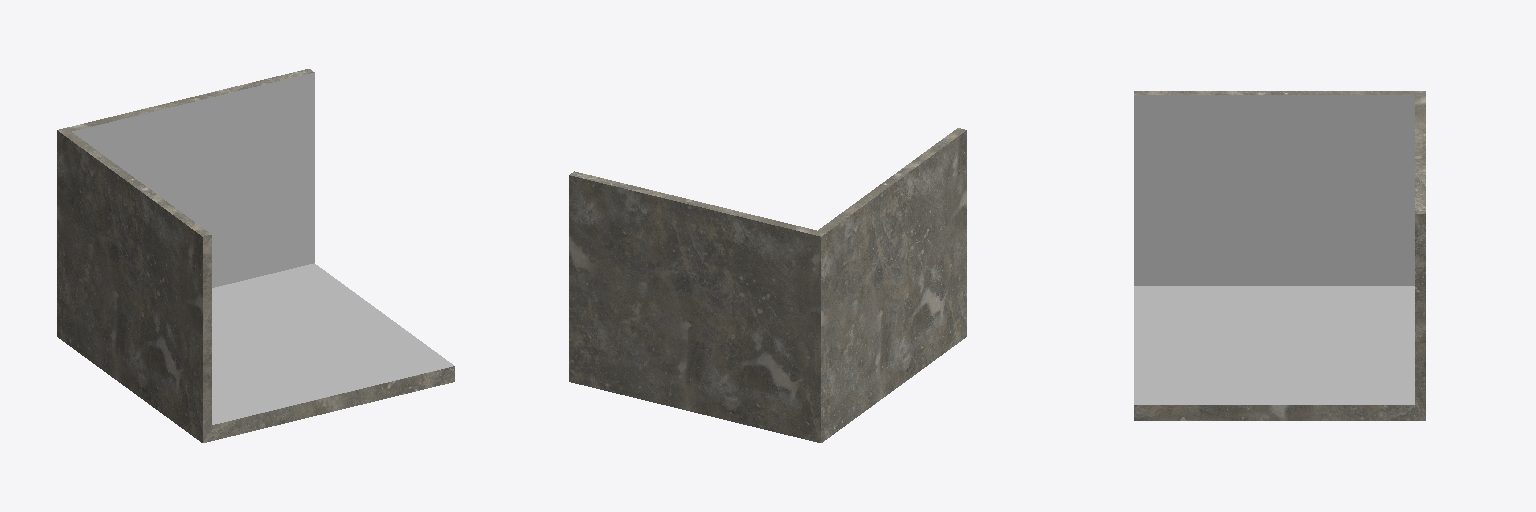
3 views of the same model, side by side, from view 1: azimuth 30°, elevation 25°; view 2: azimuth 150°, elevation 25°; view 3: azimuth 270°, elevation 25° (orthographic).
Visible parts, largest first — view 1: Plane_Plane.003; view 2: Plane_Plane.003; view 3: Plane_Plane.003.
Boxes of the visible parts, x1=… form: Plane_Plane.003: x1=57, y1=69, x2=454, y2=442; Plane_Plane.003: x1=569, y1=128, x2=966, y2=442; Plane_Plane.003: x1=1134, y1=91, x2=1425, y2=420.
Size of the model in its own units: 8.3 by 6.5 by 8.3.
Materials: 3 (1 with a texture image).